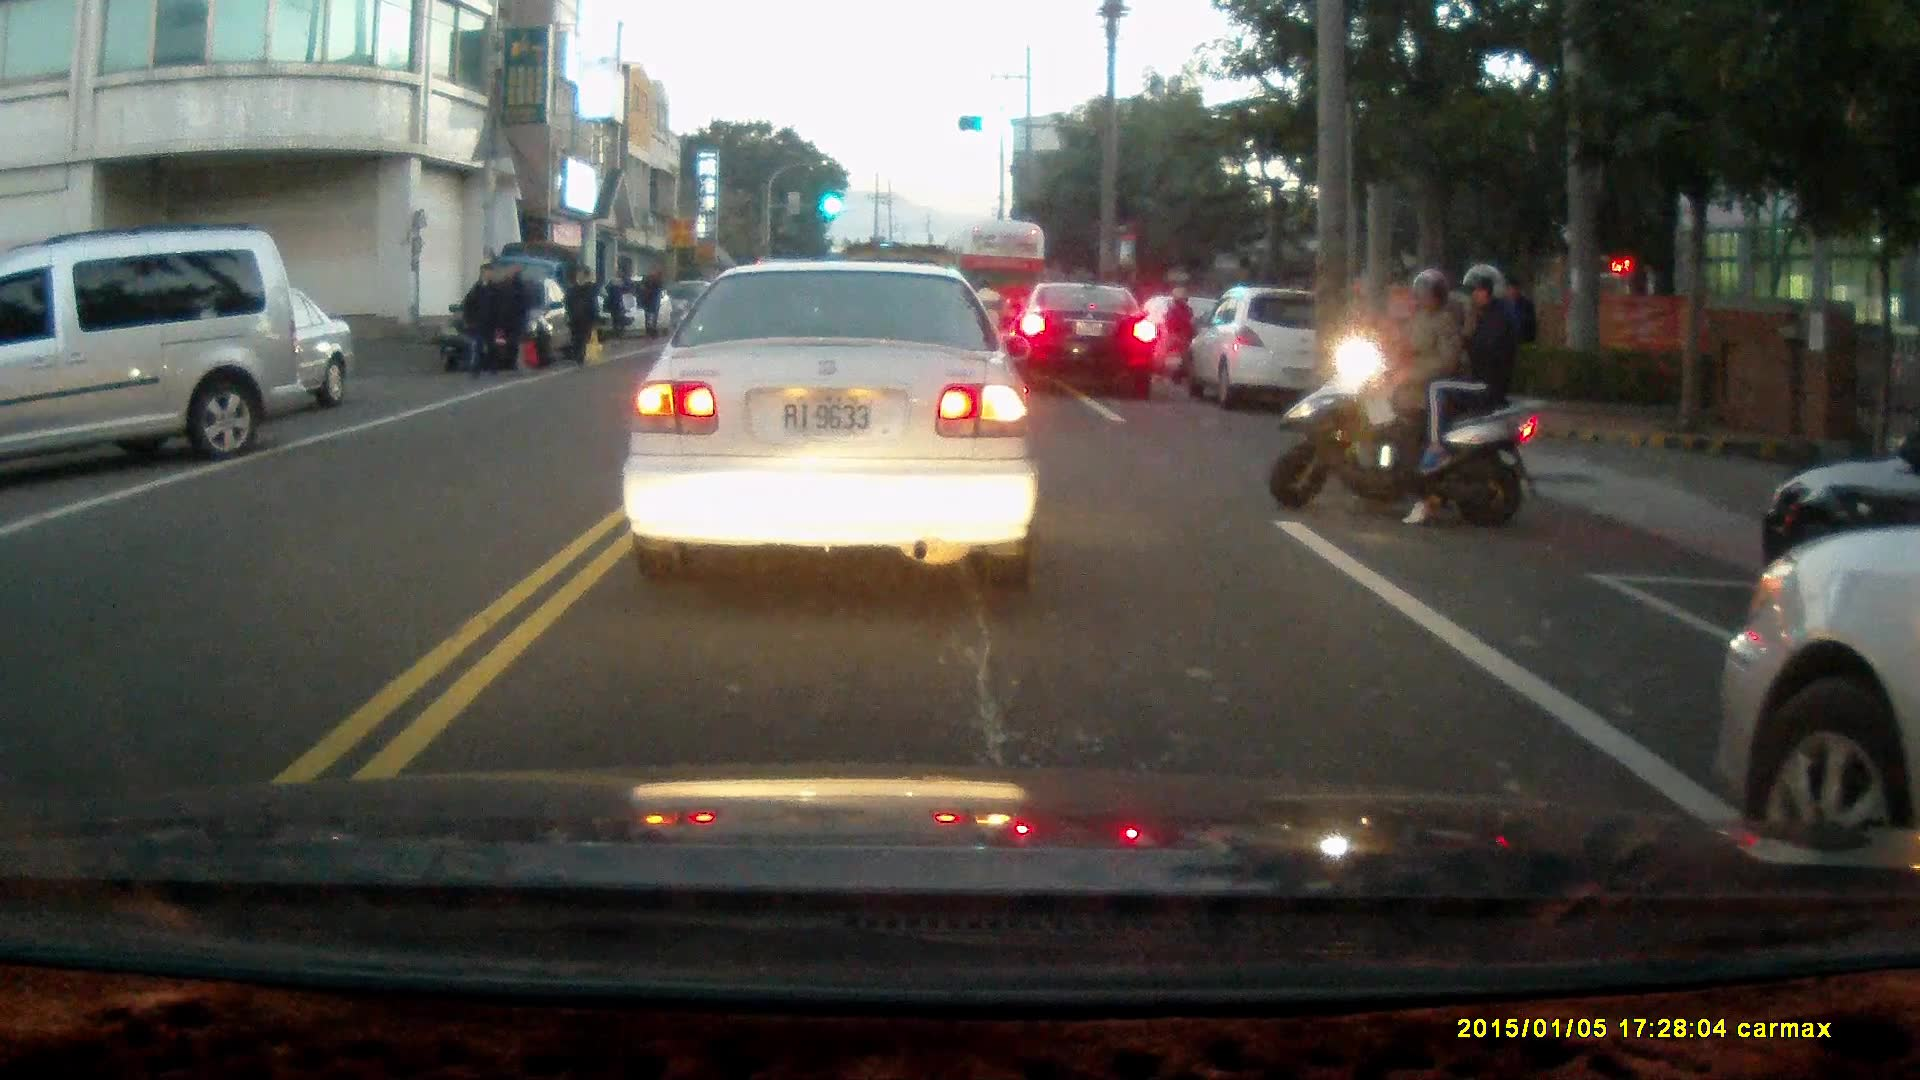pedestrian: (461, 262, 505, 384), (1494, 275, 1540, 379), (559, 263, 599, 370), (489, 264, 525, 380), (602, 266, 633, 351), (638, 268, 665, 339)
rider: (1271, 261, 1552, 534), (1159, 283, 1199, 389)
vehicle: (620, 259, 1040, 586), (1, 234, 297, 478), (1710, 536, 1920, 844), (1190, 286, 1350, 403), (1009, 283, 1159, 400), (441, 277, 581, 378)
